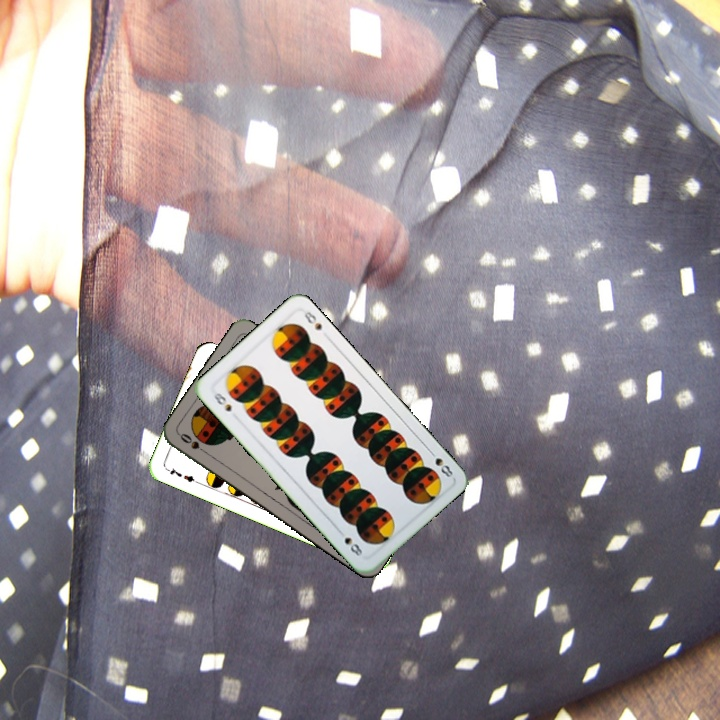E7: (162, 463, 201, 486)
S8: (424, 446, 455, 480), (209, 389, 234, 414)
SO: (176, 429, 212, 458)
